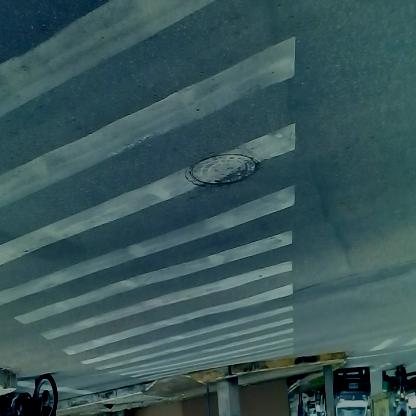crosswalk: (3, 2, 303, 358)
sidewalk: (50, 372, 343, 406)
